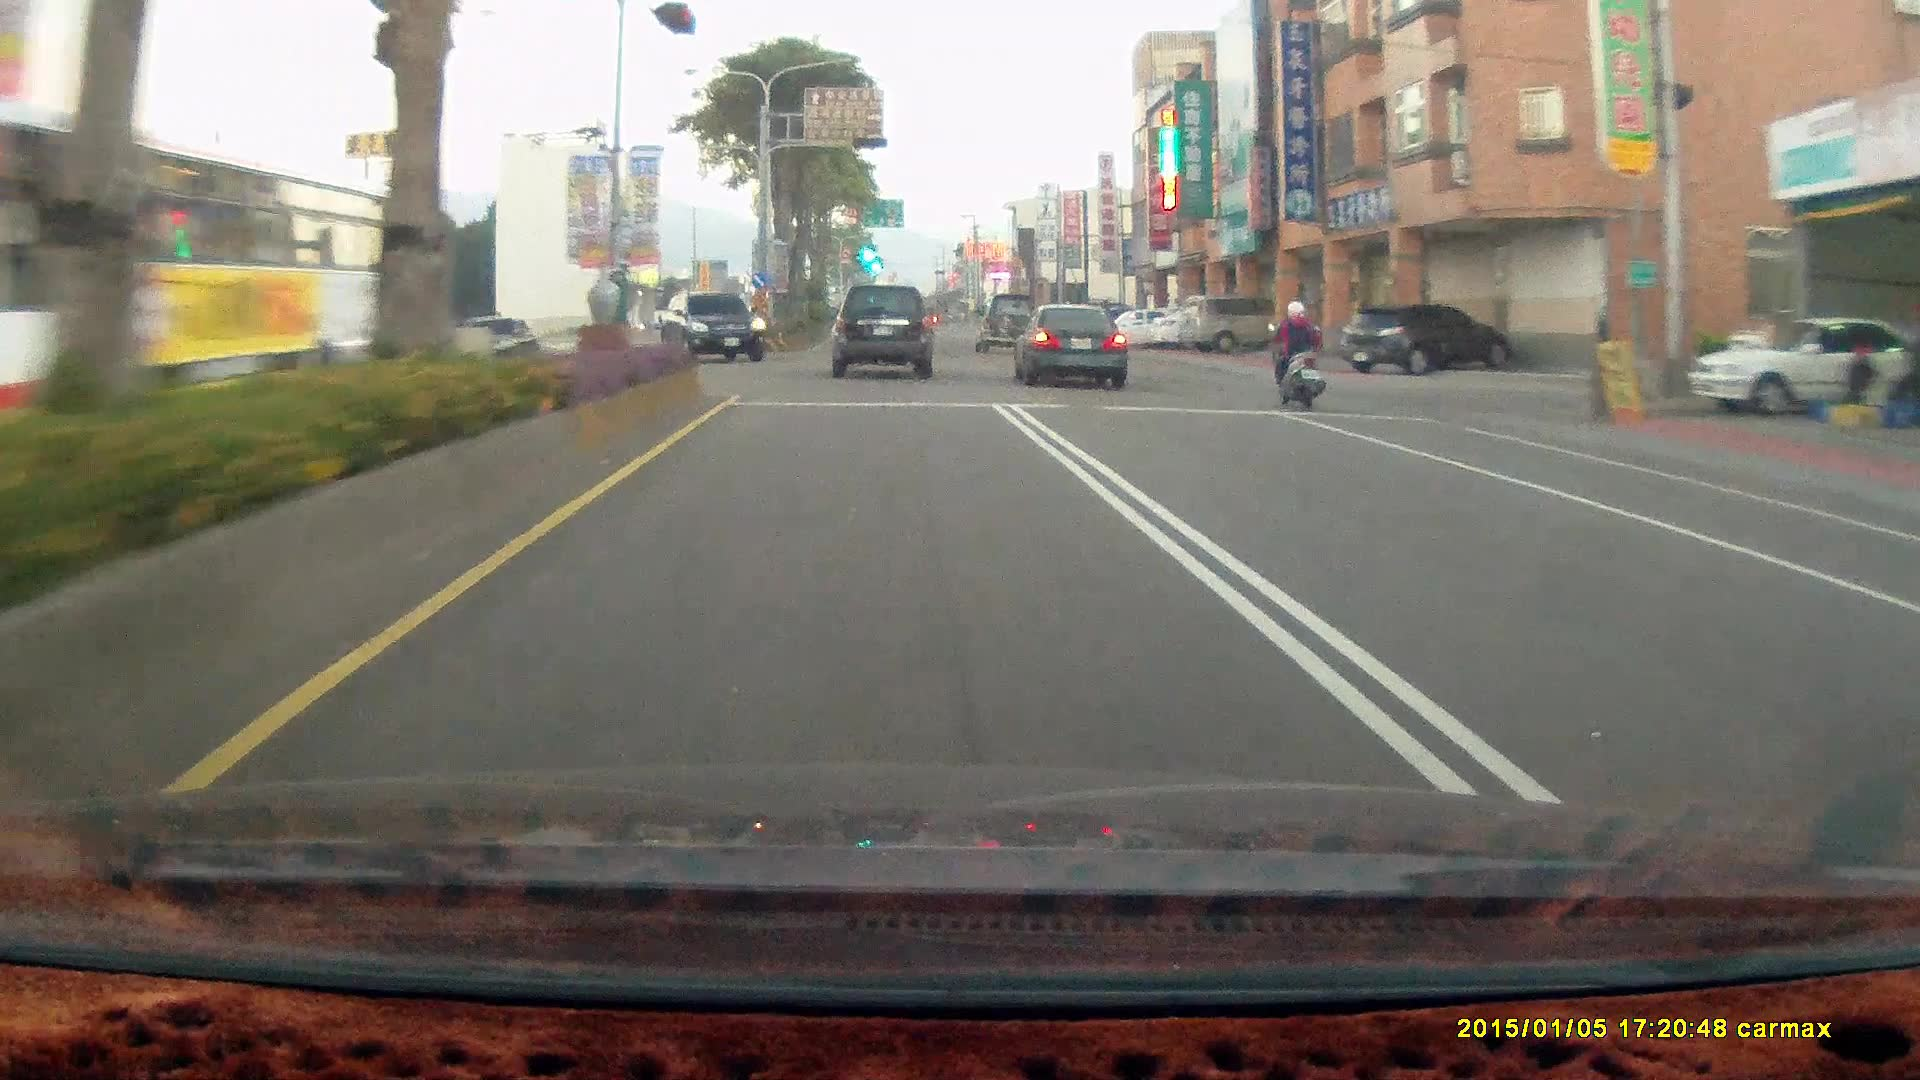pedestrian: (1843, 338, 1875, 413)
rider: (1258, 289, 1336, 421), (1267, 299, 1325, 409)
vehicle: (1, 104, 433, 443), (10, 113, 419, 421), (1685, 312, 1914, 415), (1691, 315, 1920, 415), (1335, 303, 1512, 375), (1340, 301, 1511, 371), (1011, 298, 1130, 386), (1009, 300, 1128, 386), (830, 281, 936, 376), (829, 281, 931, 376), (659, 292, 767, 365), (658, 288, 765, 360), (1175, 294, 1287, 353), (1176, 295, 1283, 353), (448, 313, 538, 372), (972, 290, 1039, 352), (1098, 305, 1186, 348)
